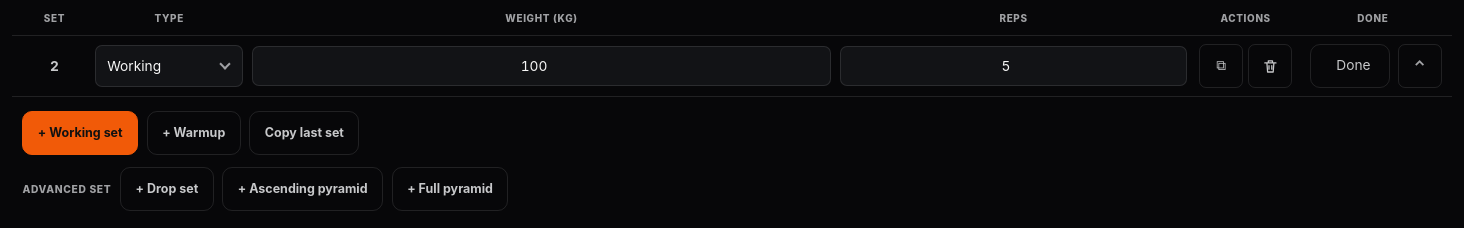
WorkoutSetList › lets an incomplete standard set collapse and expand again
Step 1. Click the button named "Collapse set 2" → (1420, 66), box [1398,44,1442,88]
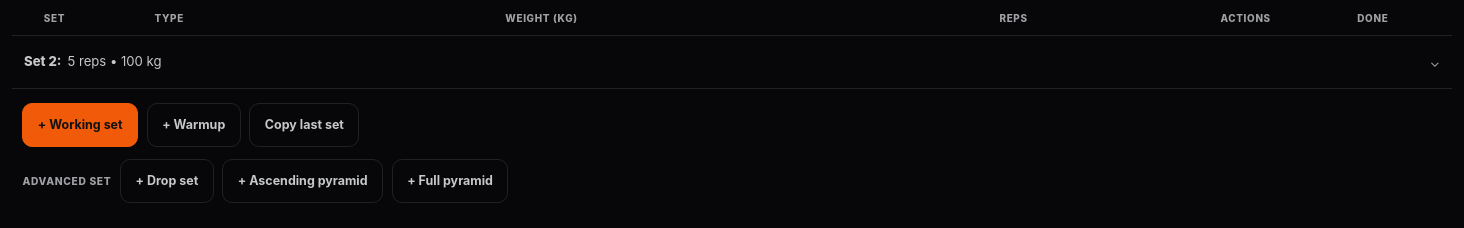
Expected: the button with aria-label "Expand set 2" is shown
Step 2. Click the button with aria-label "Expand set 2" → (114, 61), box [12,36,1452,88]
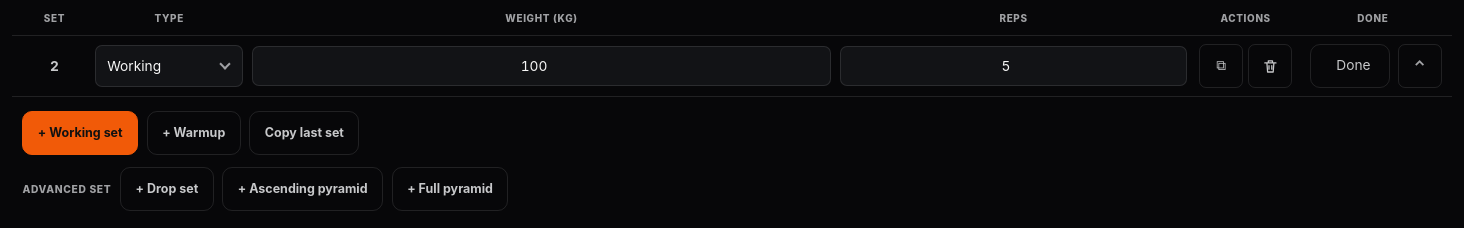
Expected: the button named "Collapse set 2" is shown, [1398,44,1442,88]
